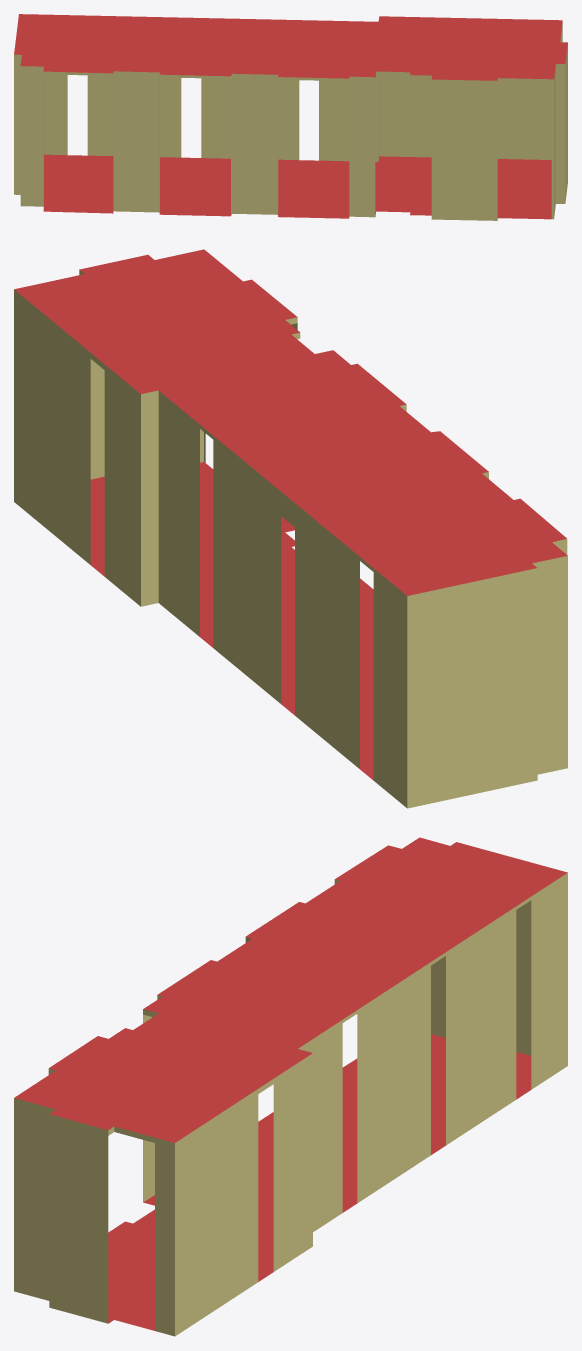
3 views of the same model, one above another, from view 1: azimuth 30°, elevation 25°; view 2: azimuth 150°, elevation 25°; view 3: azimuth 270°, elevation 25° (orthographic). The views are drawn at different scales.
Visible parts, largest first — view 1: group_4, group_3, group_5; view 2: group_4, group_3, group_5; view 3: group_4, group_3, group_5.
Part boxes in pixels (x1,y1,x2,y2): group_4: (14,23,567,220); group_3: (14,14,567,80); group_5: (43,154,551,219); group_4: (14,270,567,808); group_3: (14,249,567,595); group_5: (90,462,373,780); group_4: (14,873,567,1336); group_3: (14,837,567,1142); group_5: (108,1034,531,1330).
Size of the model in its own units: 57.63 by 44.14 by 17.
